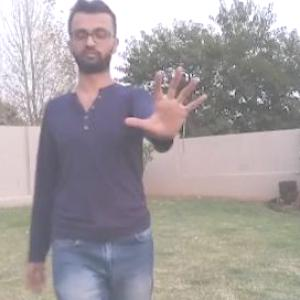follow_hand: (122, 59, 213, 148)
